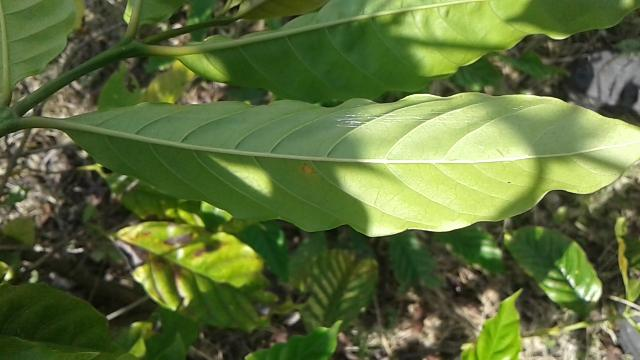rust_level_1: (60, 90, 640, 241)
